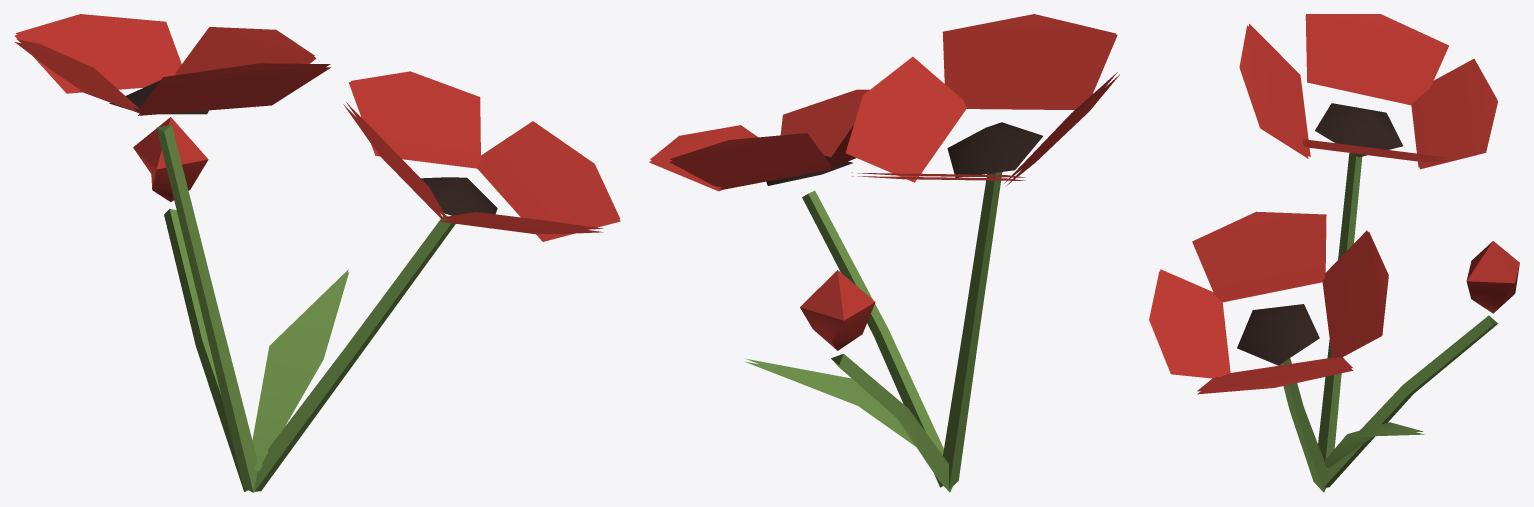
The model's file is flower-1.glb.
3 views of the same model, side by side, from view 1: azimuth 30°, elevation 25°; view 2: azimuth 150°, elevation 25°; view 3: azimuth 270°, elevation 25° (orthographic). The views are drawn at different scales.
Parts seen in each view (by area): view 1: flower-1; view 2: flower-1; view 3: flower-1.
Boxes of the visible parts, bbox=[...] form: flower-1: bbox=[14, 14, 620, 492]; flower-1: bbox=[649, 14, 1119, 492]; flower-1: bbox=[1149, 14, 1519, 492].
Bounding box in the file's own units: 0.6127 × 0.5687 × 0.4659.
